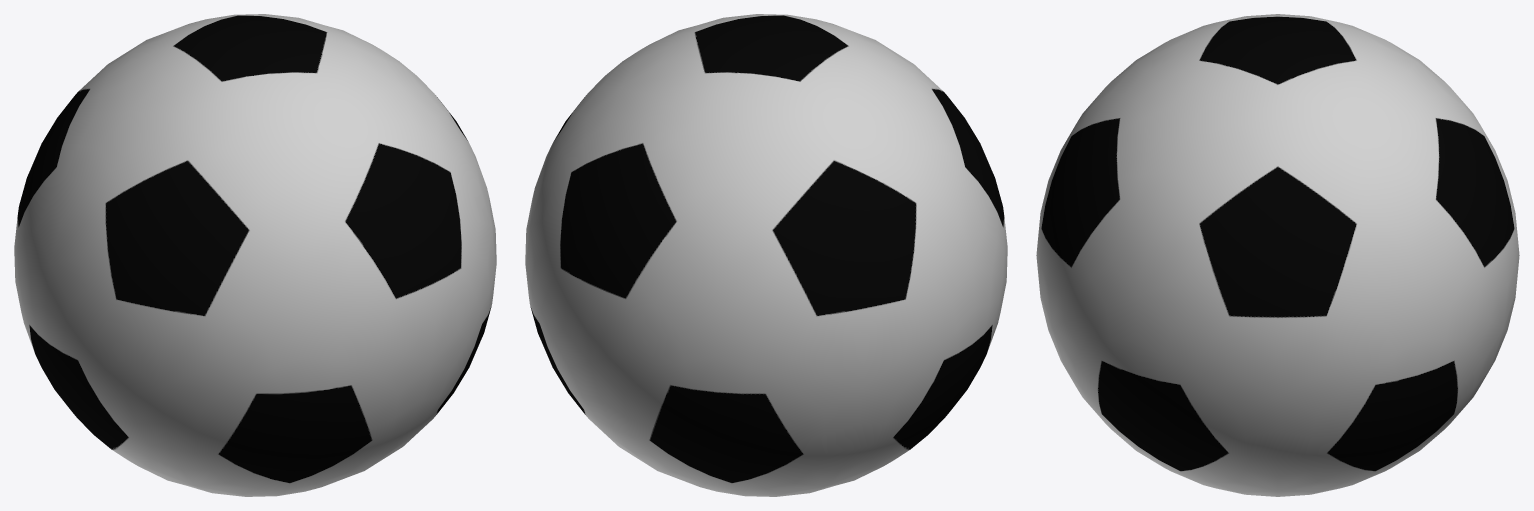
File: football.glb
3 renders of one model, left to right at view 1: azimuth 30°, elevation 25°; view 2: azimuth 150°, elevation 25°; view 3: azimuth 270°, elevation 25°, orthographic.
Parts seen in each view (by area): view 1: Soccerball; view 2: Soccerball; view 3: Soccerball.
Part boxes in pixels (x1,y1,x2,y2): Soccerball: (14,14,496,496); Soccerball: (525,14,1007,496); Soccerball: (1036,14,1519,496).
Bounding box in the file's own units: 0.24 × 0.24 × 0.24.
1 material, 1 textured.
